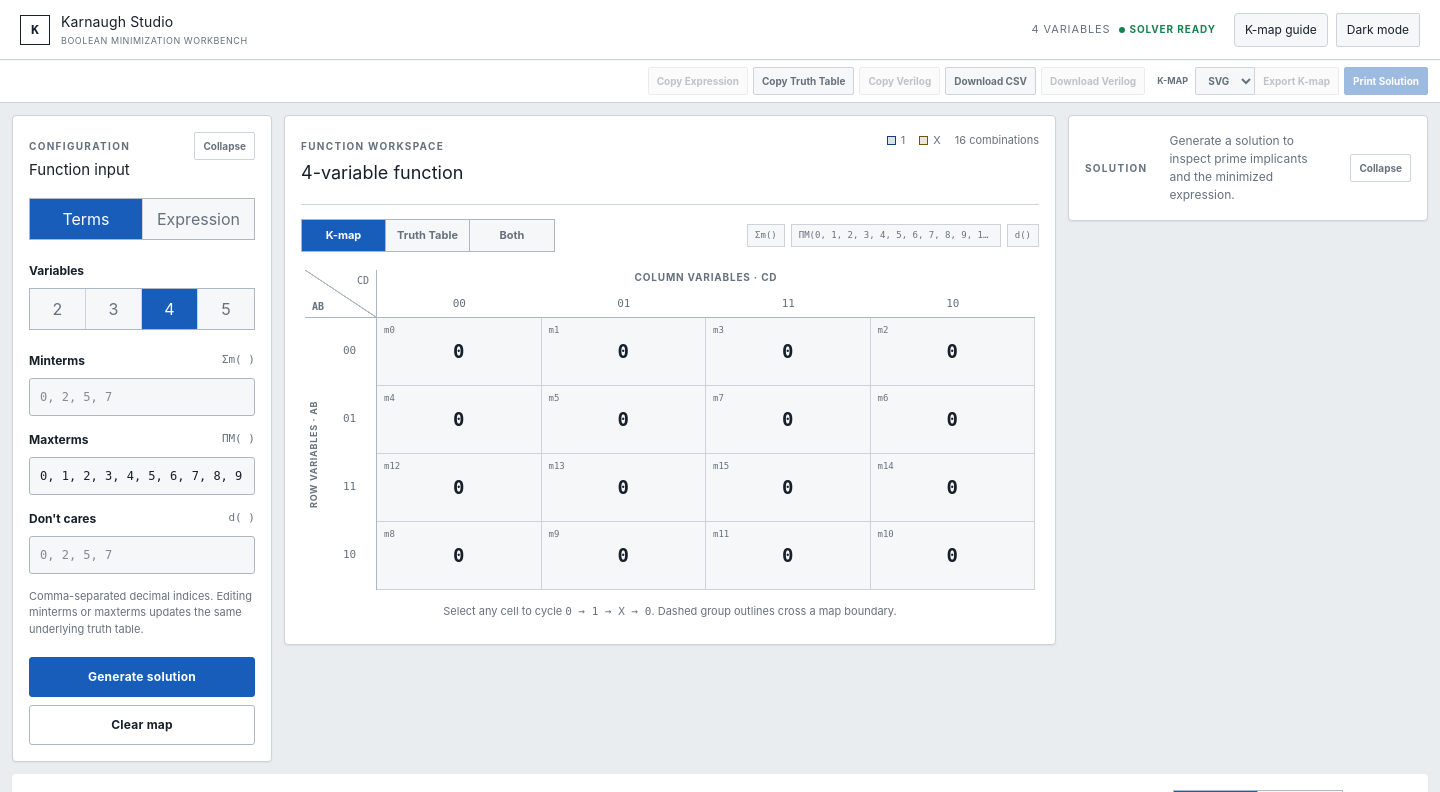
Scenario: HomePage K-map workbench › edits truth-table outputs and synchronizes the K-map and term summary
Click the button "Both". click: coordinates (512, 235)
box: [470,220,554,250]
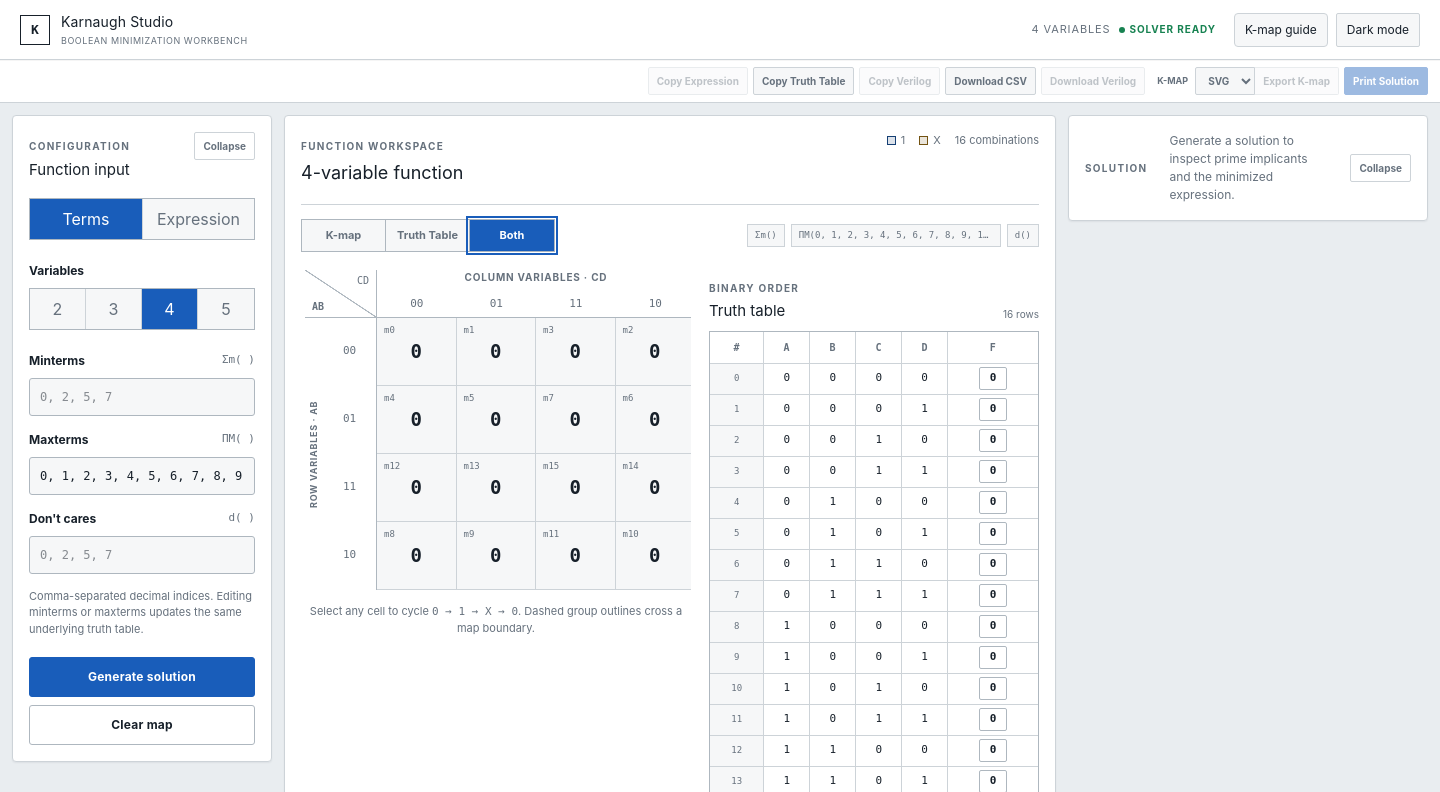
Click the button named "Row 2 output 0". click: coordinates (993, 440)
box: [979,429,1007,452]
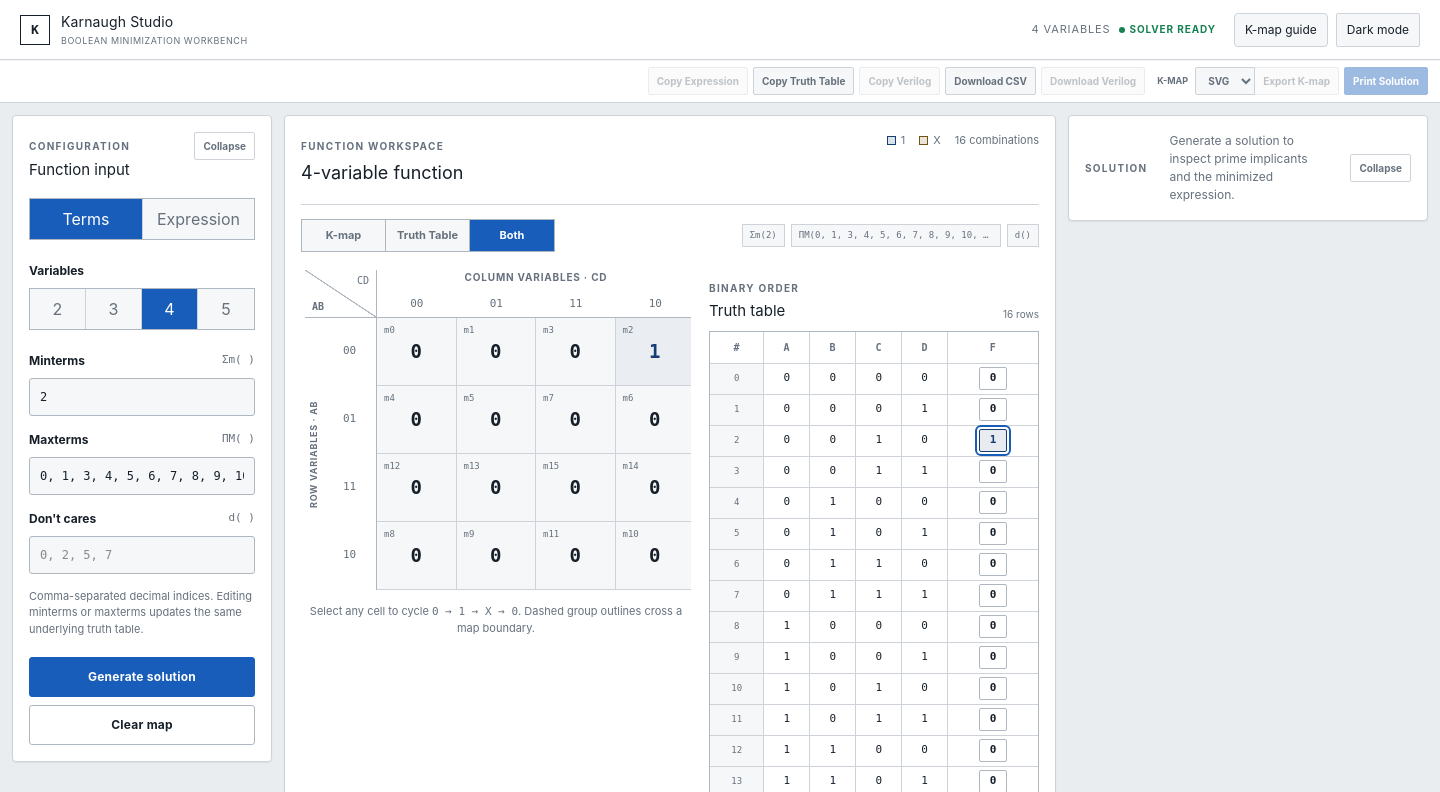
expect the element named "Function summary" shows "Σm(2)": met, box [742,224,1039,247]
Click the button named "Row 2 output 0". click: coordinates (993, 440)
box: [979,429,1007,452]
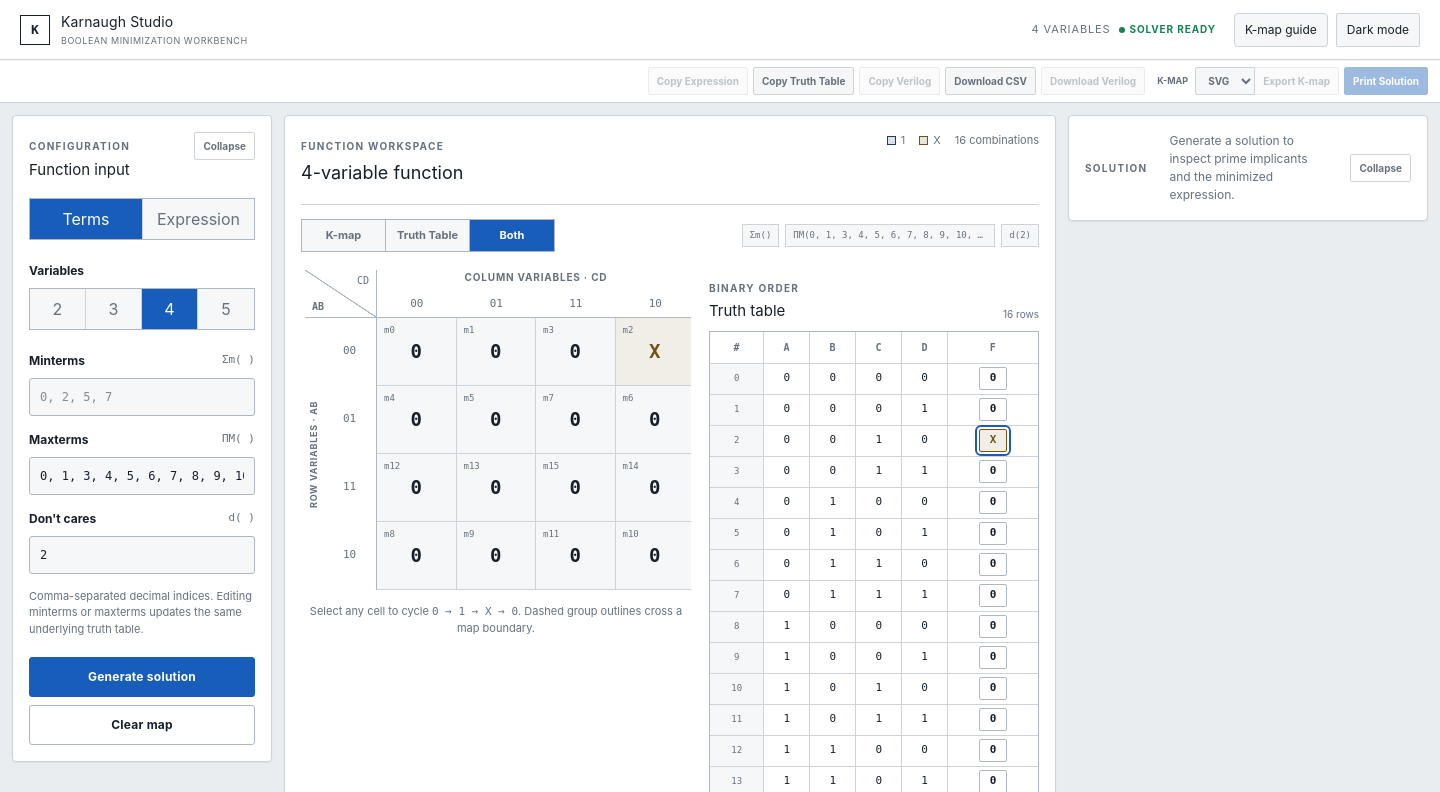
expect the element named "Function summary" shows "d(2)": met, box [742,224,1039,247]
